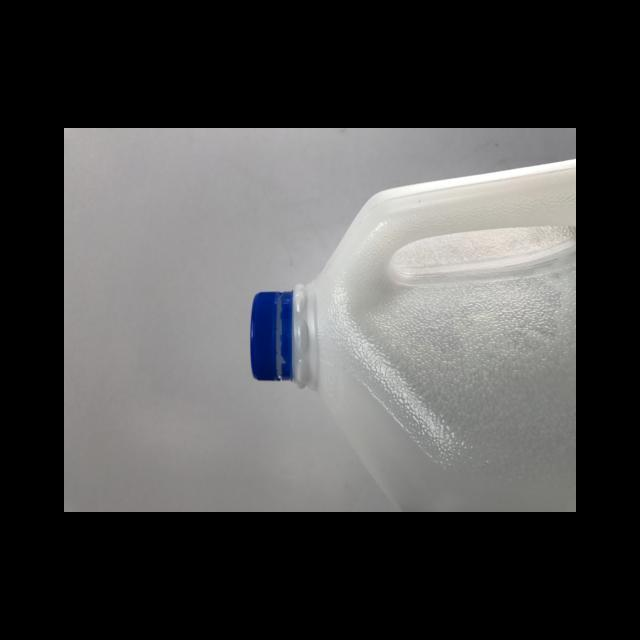plastic: (249, 156, 575, 511), (248, 287, 293, 384)
